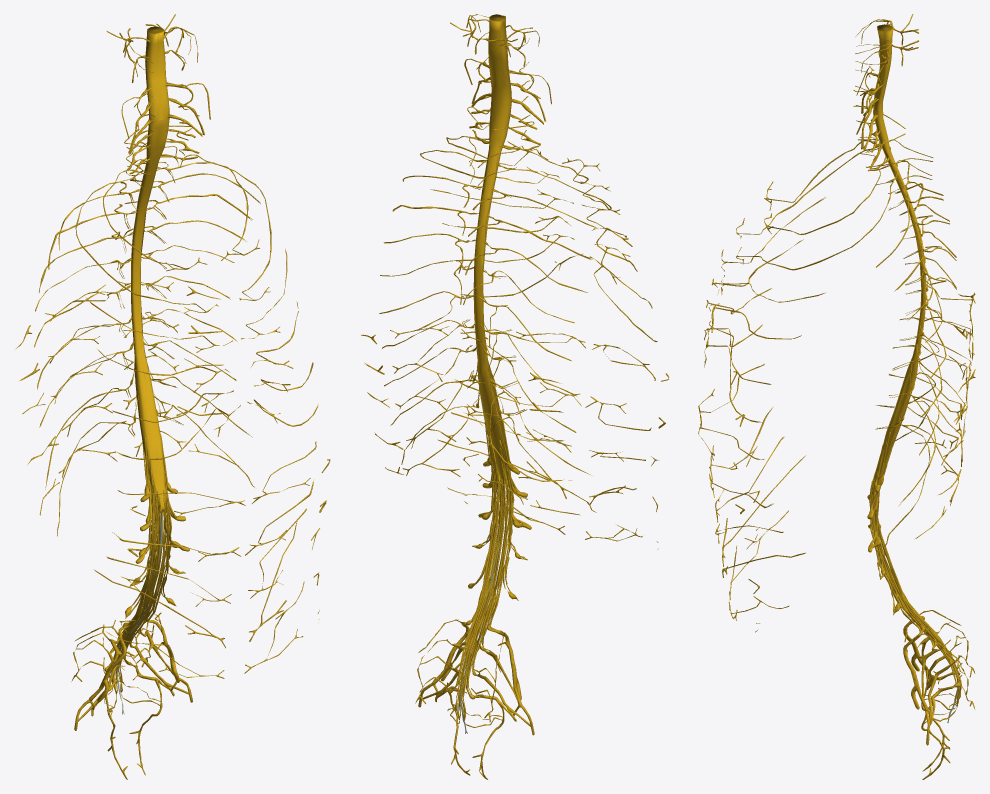
Rendered from cord-nerves.glb.
3 views of the same model, side by side, from view 1: azimuth 30°, elevation 25°; view 2: azimuth 150°, elevation 25°; view 3: azimuth 270°, elevation 25° (orthographic). The views are drawn at different scales.
Parts seen in each view (by area): view 1: Spinal_cord, Right_10th_intercostal_nerve, Left_S4_nerve, Right_S1_nerve, Right_11th_intercostal_nerve, Right_S4_nerve, Right_7th_intercostal_nerve, Left_10th_intercostal_nerve, Right_8th_intercostal_nerve, Right_9th_intercostal_nerve, Left_11th_intercostal_nerve, Left_S1_nerve (+11 smaller); view 2: Spinal_cord, Right_S4_nerve, Left_S4_nerve, Right_S3_nerve, Right_S1_nerve, Right_S2_nerve, Left_10th_intercostal_nerve, Right_11th_intercostal_nerve, Right_10th_intercostal_nerve, Right_8th_intercostal_nerve, Left_S3_nerve, Left_S2_nerve (+9 smaller); view 3: Spinal_cord, Left_S1_nerve, Left_S2_nerve, Left_11th_intercostal_nerve, Left_10th_intercostal_nerve, Left_S3_nerve, Left_S4_nerve, Left_9th_intercostal_nerve, Left_7th_intercostal_nerve, Left_8th_intercostal_nerve, Right_10th_intercostal_nerve, Right_11th_intercostal_nerve (+3 smaller).
Boxes of the visible parts, x1=… form: Spinal_cord: x1=131, y1=26, x2=169, y2=512; Right_10th_intercostal_nerve: x1=27, y1=363, x2=225, y2=648; Left_S4_nerve: x1=123, y1=518, x2=169, y2=775; Right_S1_nerve: x1=74, y1=483, x2=158, y2=702; Right_11th_intercostal_nerve: x1=39, y1=394, x2=224, y2=678; Right_S4_nerve: x1=71, y1=507, x2=160, y2=779; Right_7th_intercostal_nerve: x1=16, y1=284, x2=245, y2=517; Left_10th_intercostal_nerve: x1=123, y1=361, x2=319, y2=641; Right_8th_intercostal_nerve: x1=18, y1=316, x2=241, y2=561; Right_9th_intercostal_nerve: x1=22, y1=341, x2=231, y2=606; Left_11th_intercostal_nerve: x1=134, y1=394, x2=319, y2=673; Left_S1_nerve: x1=145, y1=480, x2=179, y2=682; Spinal_cord: x1=473, y1=14, x2=511, y2=479; Right_S4_nerve: x1=466, y1=480, x2=511, y2=779; Left_S4_nerve: x1=415, y1=474, x2=502, y2=775; Right_S3_nerve: x1=472, y1=472, x2=530, y2=726; Right_S1_nerve: x1=487, y1=479, x2=521, y2=704; Right_S2_nerve: x1=479, y1=468, x2=534, y2=735; Left_10th_intercostal_nerve: x1=374, y1=362, x2=566, y2=498; Right_11th_intercostal_nerve: x1=478, y1=390, x2=658, y2=549; Right_10th_intercostal_nerve: x1=466, y1=365, x2=658, y2=511; Right_8th_intercostal_nerve: x1=467, y1=323, x2=665, y2=430; Left_S3_nerve: x1=419, y1=471, x2=499, y2=702; Left_S2_nerve: x1=417, y1=470, x2=497, y2=707; Spinal_cord: x1=871, y1=24, x2=926, y2=494; Left_S1_nerve: x1=872, y1=471, x2=961, y2=711; Left_S2_nerve: x1=871, y1=477, x2=968, y2=745; Left_11th_intercostal_nerve: x1=728, y1=393, x2=958, y2=632; Left_10th_intercostal_nerve: x1=722, y1=364, x2=962, y2=593; Left_S3_nerve: x1=870, y1=481, x2=965, y2=727; Left_S4_nerve: x1=876, y1=492, x2=974, y2=779; Left_9th_intercostal_nerve: x1=715, y1=342, x2=967, y2=549; Left_7th_intercostal_nerve: x1=698, y1=292, x2=975, y2=469; Left_8th_intercostal_nerve: x1=709, y1=320, x2=971, y2=514; Right_10th_intercostal_nerve: x1=722, y1=372, x2=962, y2=566; Right_11th_intercostal_nerve: x1=729, y1=400, x2=958, y2=600.
Size of the model in its own units: 0.2128 by 0.7365 by 0.2479.
62 materials, 62 textured.
